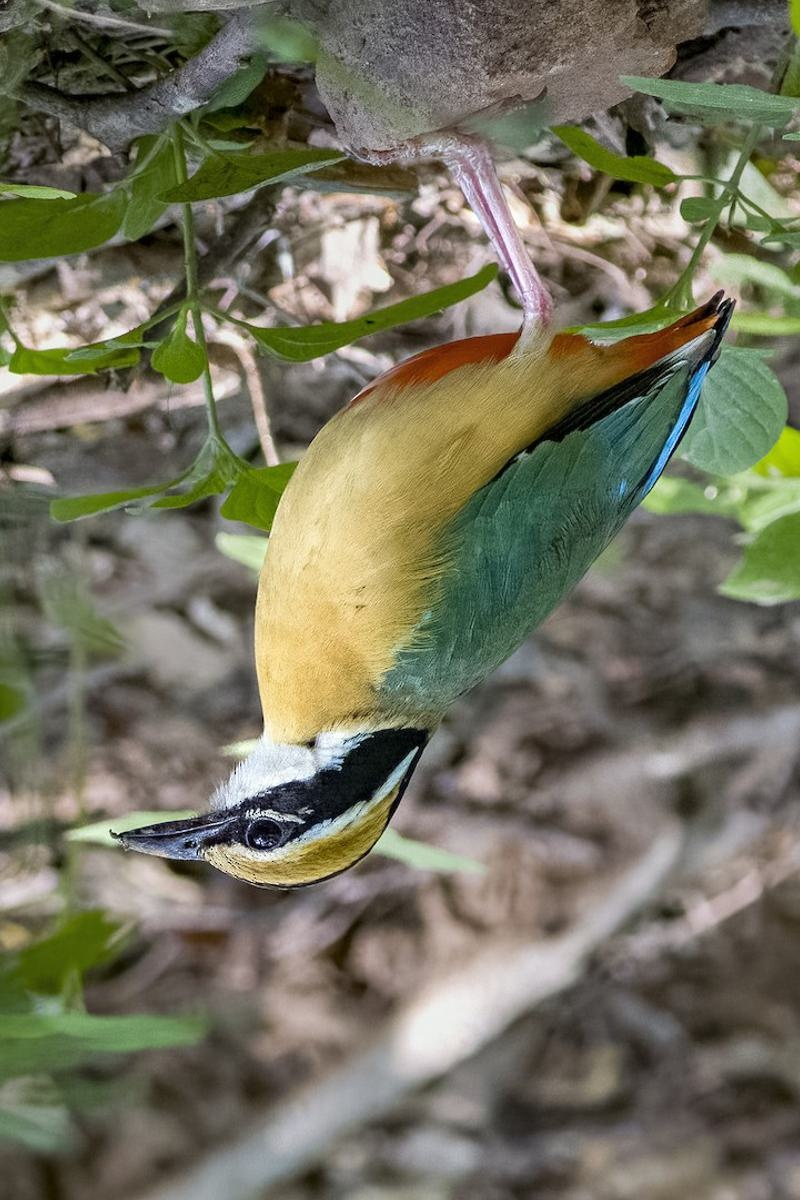pitta: (87, 159, 746, 940)
